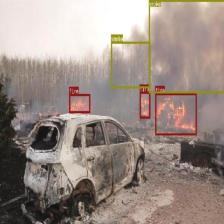fire: (155, 93, 196, 134), (69, 93, 90, 113), (139, 92, 150, 118)
smoke: (148, 0, 223, 92), (111, 41, 150, 88)
